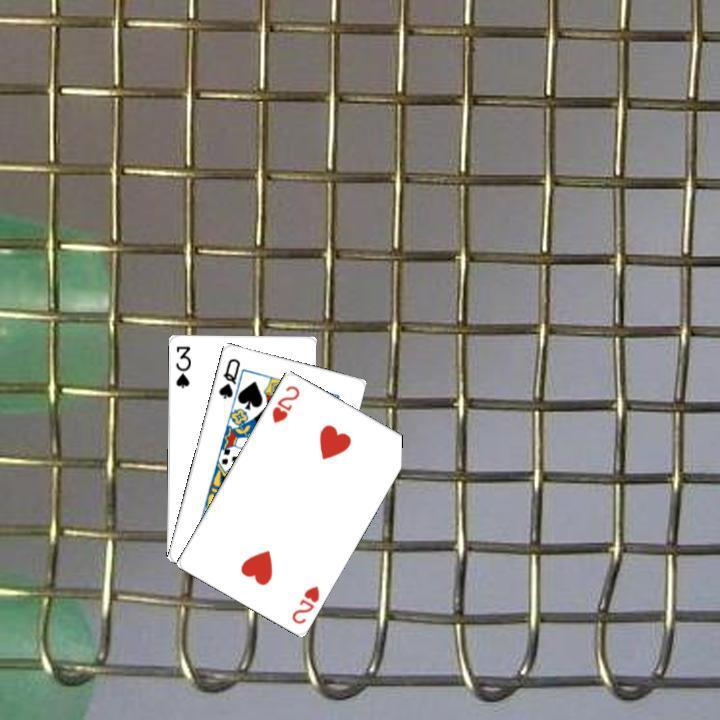2: (267, 381, 302, 425), (287, 581, 321, 626)
3: (171, 341, 192, 390)
Q: (214, 353, 242, 401)
